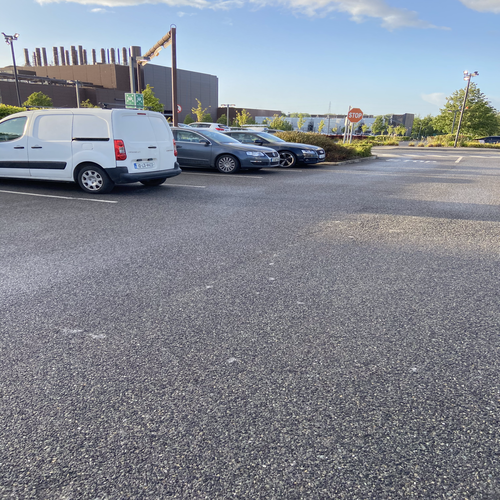Car: (1, 112, 178, 189), (177, 126, 278, 178), (271, 128, 328, 173)
Stop: (346, 106, 364, 122)
